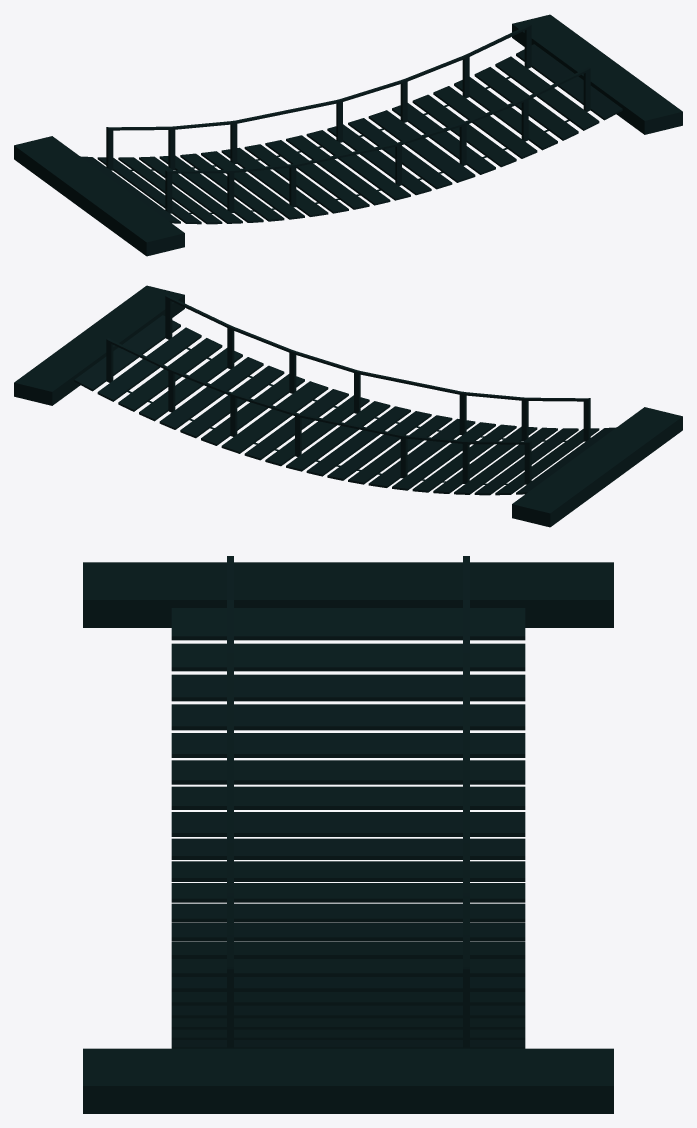
Rendered from bridge.fbx.
3 views of the same model, one above another, from view 1: azimuth 30°, elevation 25°; view 2: azimuth 150°, elevation 25°; view 3: azimuth 270°, elevation 25° (orthographic). The views are drawn at different scales.
Parts seen in each view (by area): view 1: Plane.012; view 2: Plane.012; view 3: Plane.012.
Boxes of the visible parts, x1=… form: Plane.012: x1=14, y1=14, x2=682, y2=256; Plane.012: x1=14, y1=285, x2=682, y2=527; Plane.012: x1=83, y1=556, x2=613, y2=1113.
Size of the model in its own units: 1400 by 178 by 600.
